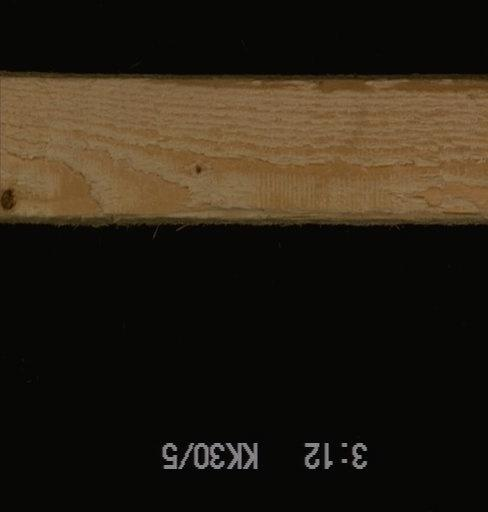dry_knot: (0, 187, 18, 214)
small_knot: (188, 162, 204, 178)
wave: (140, 72, 486, 94), (126, 211, 483, 225)
